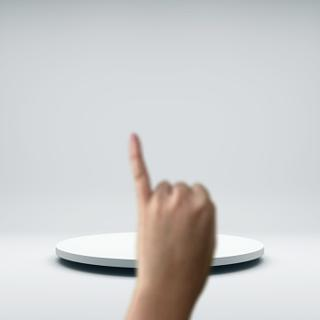FINE: (120, 130, 222, 291)
